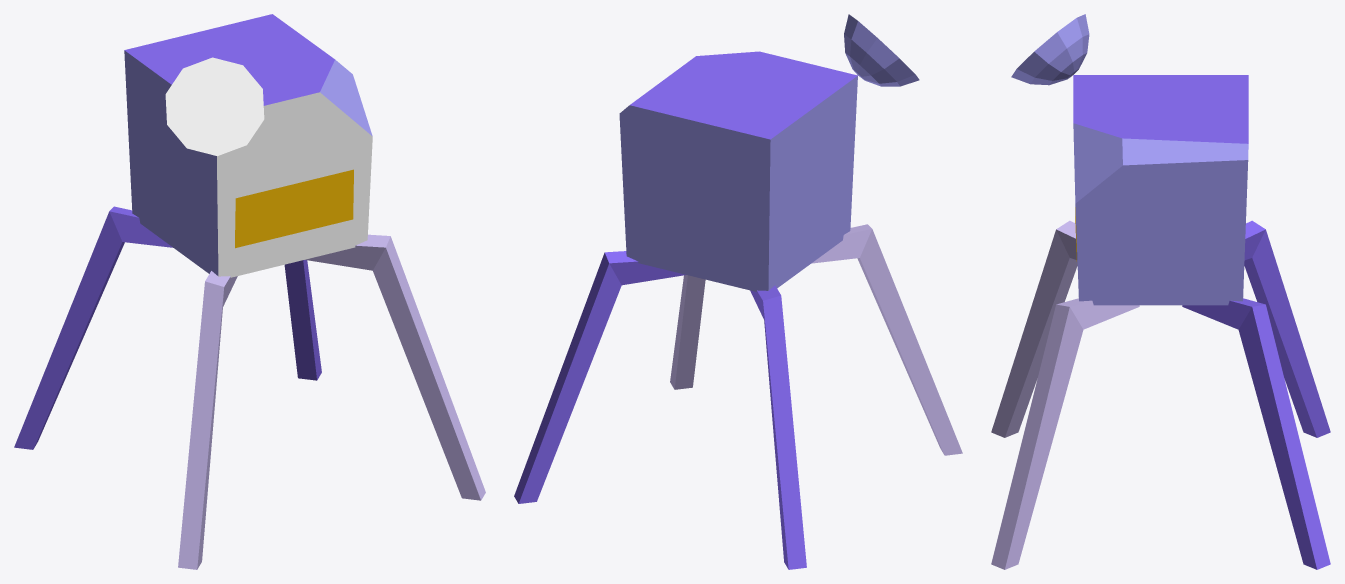
The model's file is Building_051_b.fbx.
3 renders of one model, left to right at view 1: azimuth 30°, elevation 25°; view 2: azimuth 150°, elevation 25°; view 3: azimuth 270°, elevation 25°, orthographic. The views are drawn at different scales.
Parts seen in each view (by area): view 1: Building_051_b; view 2: Building_051_b; view 3: Building_051_b.
Part boxes in pixels (x1,y1,x2,y2): Building_051_b: (14, 14, 485, 569); Building_051_b: (514, 14, 962, 569); Building_051_b: (991, 14, 1330, 569).
Bounding box in the file's own units: 7.89 × 11.38 × 7.91.
